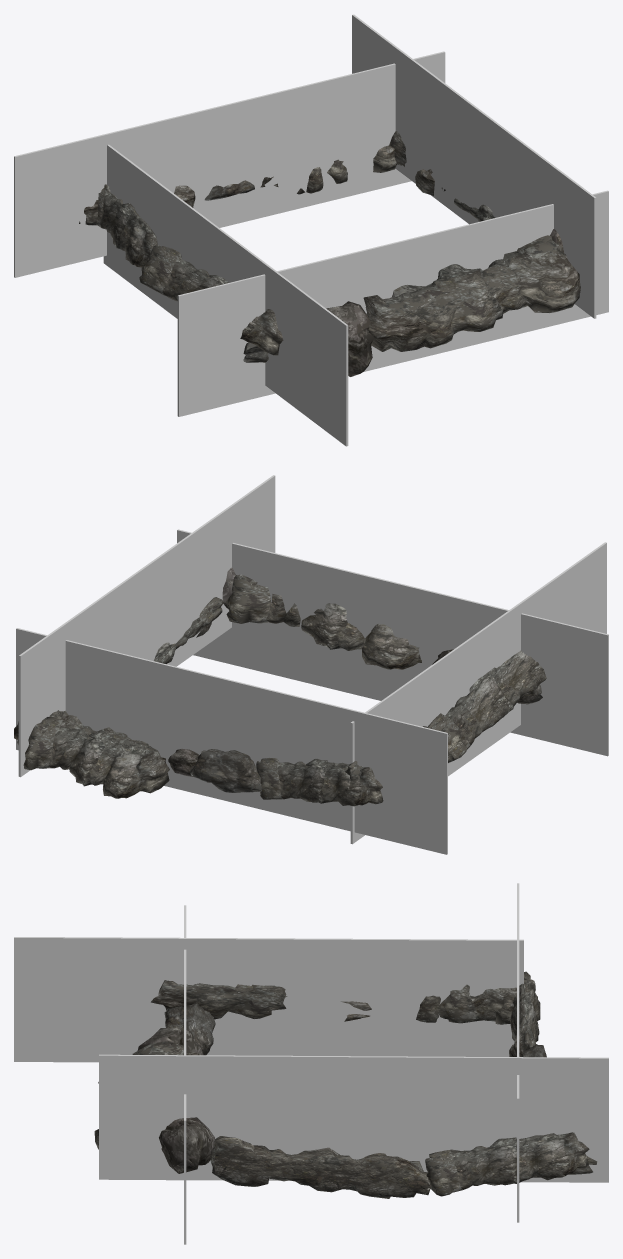
Rendered from Wall3.fbx.
The picture shows the model from 3 angles, top to bottom: view 1: azimuth 30°, elevation 25°; view 2: azimuth 150°, elevation 25°; view 3: azimuth 270°, elevation 25°; orthographic projection. The views are drawn at different scales.
Visible parts, largest first — view 1: 立方体.001, 立方体, 立方体.002, 立方体.003, SM_SampleGame_Rock001.006, SM_SampleGame_Rock001.005, SM_SampleGame_Rock001.004, SM_SampleGame_Rock003.002, SM_SampleGame_Rock001.001, SM_SampleGame_Rock001.002, SM_SampleGame_Rock001; view 2: 立方体.001, 立方体, 立方体.002, 立方体.003, SM_SampleGame_Rock001.001, SM_SampleGame_Rock001.006, SM_SampleGame_Rock001.005, SM_SampleGame_Rock001, SM_SampleGame_Rock002, SM_SampleGame_Rock001.003, SM_SampleGame_Rock003; view 3: 立方体.003, 立方体.002, SM_SampleGame_Rock001.003, SM_SampleGame_Rock001.002, SM_SampleGame_Rock001.005, SM_SampleGame_Rock001.004, SM_SampleGame_Rock003.001, SM_SampleGame_Rock001, SM_SampleGame_Rock002.001, 立方体.001, 立方体, SM_SampleGame_Rock003.002 (+1 smaller).
Boxes of the visible parts, bbox=[...] form: 立方体.001: bbox=[14, 51, 445, 277]; 立方体: bbox=[177, 190, 608, 416]; 立方体.002: bbox=[352, 14, 596, 318]; 立方体.003: bbox=[103, 144, 348, 446]; SM_SampleGame_Rock001.006: bbox=[363, 235, 580, 351]; SM_SampleGame_Rock001.005: bbox=[139, 244, 283, 355]; SM_SampleGame_Rock001.004: bbox=[96, 184, 157, 267]; SM_SampleGame_Rock003.002: bbox=[326, 301, 373, 376]; SM_SampleGame_Rock001.001: bbox=[297, 145, 396, 194]; SM_SampleGame_Rock001.002: bbox=[389, 131, 434, 195]; SM_SampleGame_Rock001: bbox=[79, 185, 195, 225]; 立方体.001: bbox=[16, 628, 447, 854]; 立方体: bbox=[177, 529, 608, 756]; 立方体.002: bbox=[18, 475, 275, 777]; 立方体.003: bbox=[350, 542, 606, 844]; SM_SampleGame_Rock001.001: bbox=[23, 715, 169, 798]; SM_SampleGame_Rock001.006: bbox=[226, 574, 421, 669]; SM_SampleGame_Rock001.005: bbox=[427, 650, 546, 762]; SM_SampleGame_Rock001: bbox=[256, 758, 383, 806]; SM_SampleGame_Rock002: bbox=[190, 749, 261, 792]; SM_SampleGame_Rock001.003: bbox=[154, 597, 223, 663]; SM_SampleGame_Rock003: bbox=[168, 748, 199, 776]; 立方体.003: bbox=[14, 937, 523, 1062]; 立方体.002: bbox=[99, 1054, 608, 1182]; SM_SampleGame_Rock001.003: bbox=[210, 1136, 430, 1198]; SM_SampleGame_Rock001.002: bbox=[425, 1132, 589, 1196]; SM_SampleGame_Rock001.005: bbox=[151, 980, 371, 1021]; SM_SampleGame_Rock001.004: bbox=[416, 978, 535, 1024]; SM_SampleGame_Rock003.001: bbox=[159, 1117, 214, 1173]; SM_SampleGame_Rock001: bbox=[509, 971, 540, 1056]; SM_SampleGame_Rock002.001: bbox=[164, 1003, 215, 1055]; 立方体.001: bbox=[517, 883, 519, 1222]; 立方体: bbox=[184, 905, 186, 1244]; SM_SampleGame_Rock003.002: bbox=[137, 1027, 203, 1055].
Bounding box in the file's own units: 15217 × 5320 × 17692.
3 materials, 3 textured.
